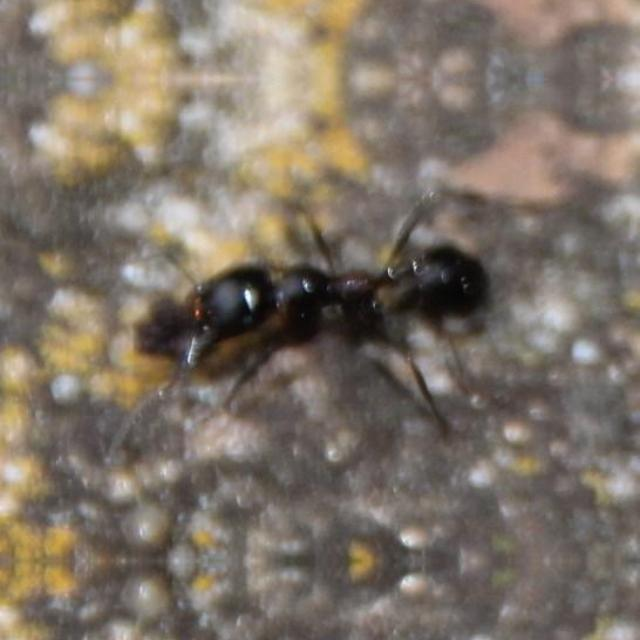Messor: (174, 232, 488, 356)
